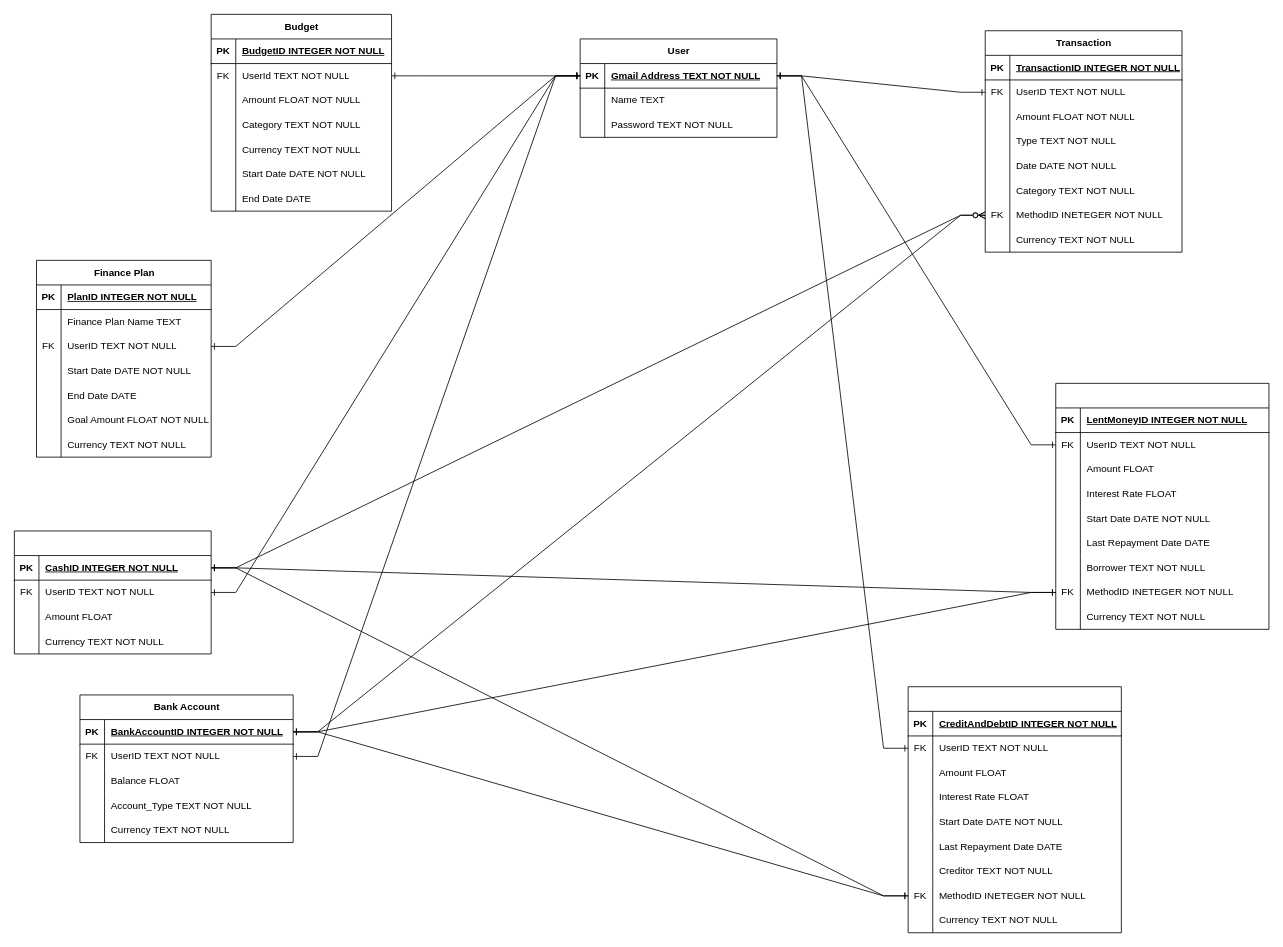
This 1283x947 diagram has some shape labels left out. Here are the shapes that lost their labels. From the top down, the box of each, then its label:
(1055, 383, 1269, 629): Money Lent
(14, 530, 211, 654): Cash Money
(907, 686, 1121, 933): Credit & Debt
